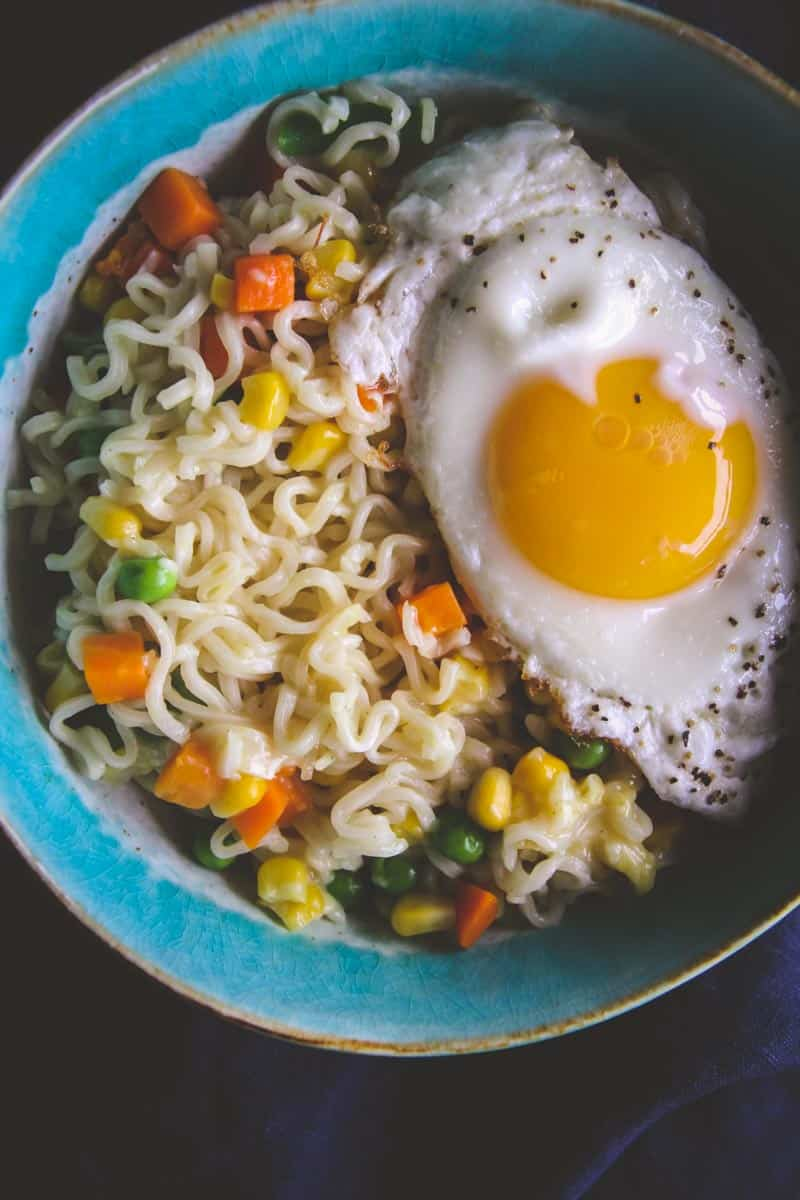fried egg: (430, 140, 800, 816)
plain spaghetti: (58, 267, 459, 920)
